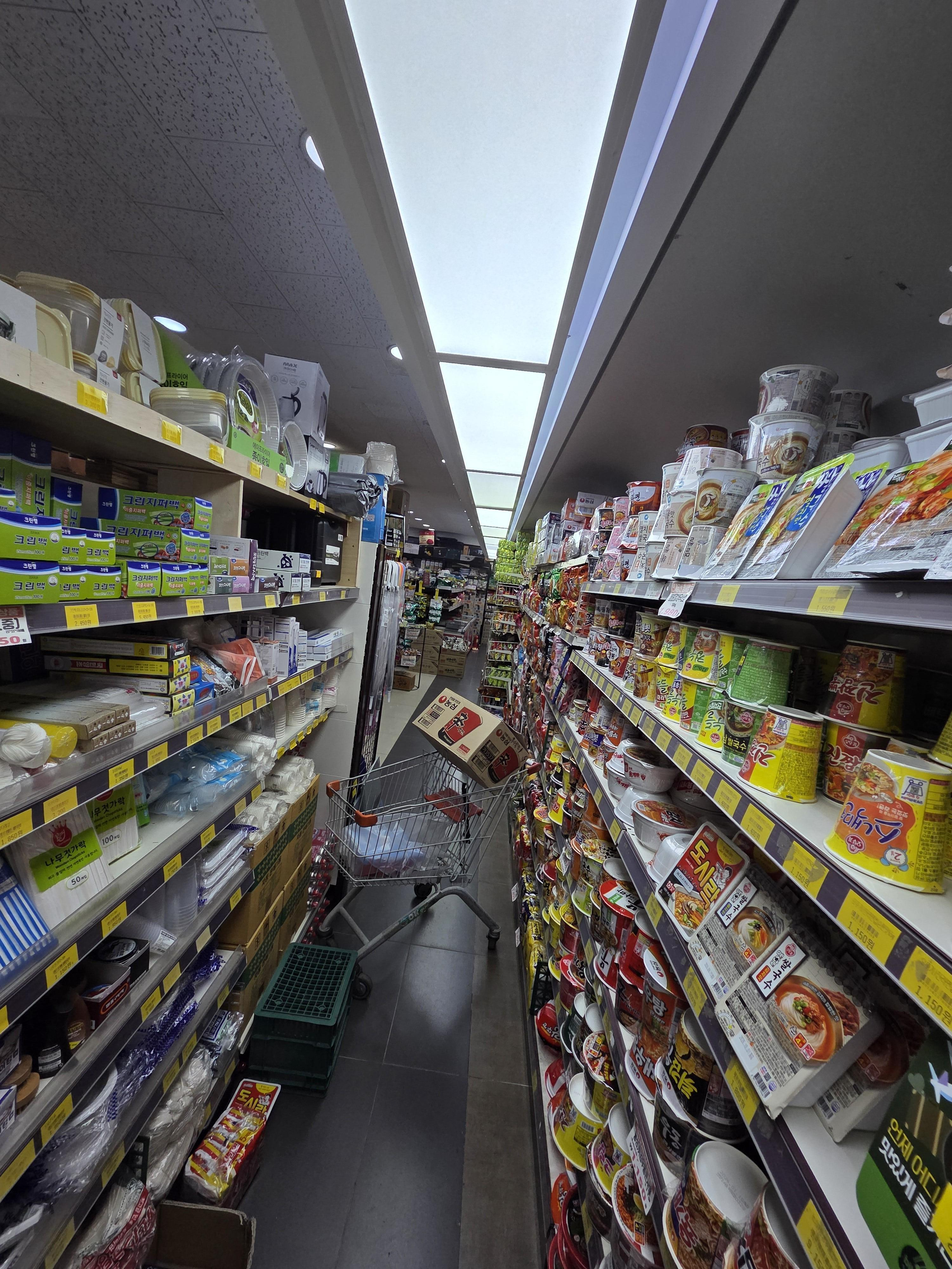fully_cart: (310, 683, 546, 1006)
